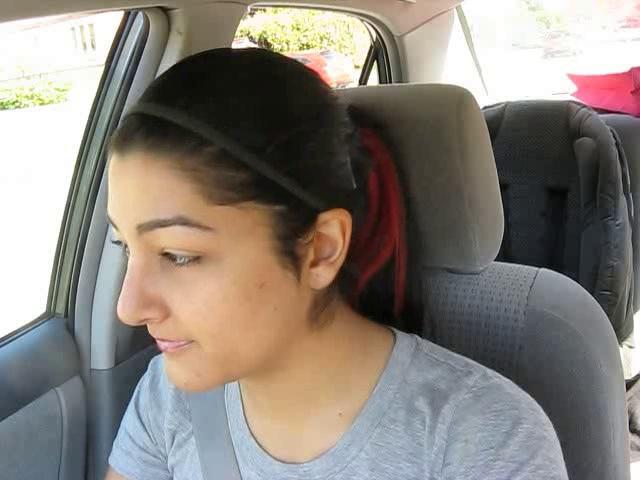no_yawn: (128, 320, 208, 369)
open_eyeL: (99, 223, 134, 272)
open_eyeR: (142, 233, 220, 282)
